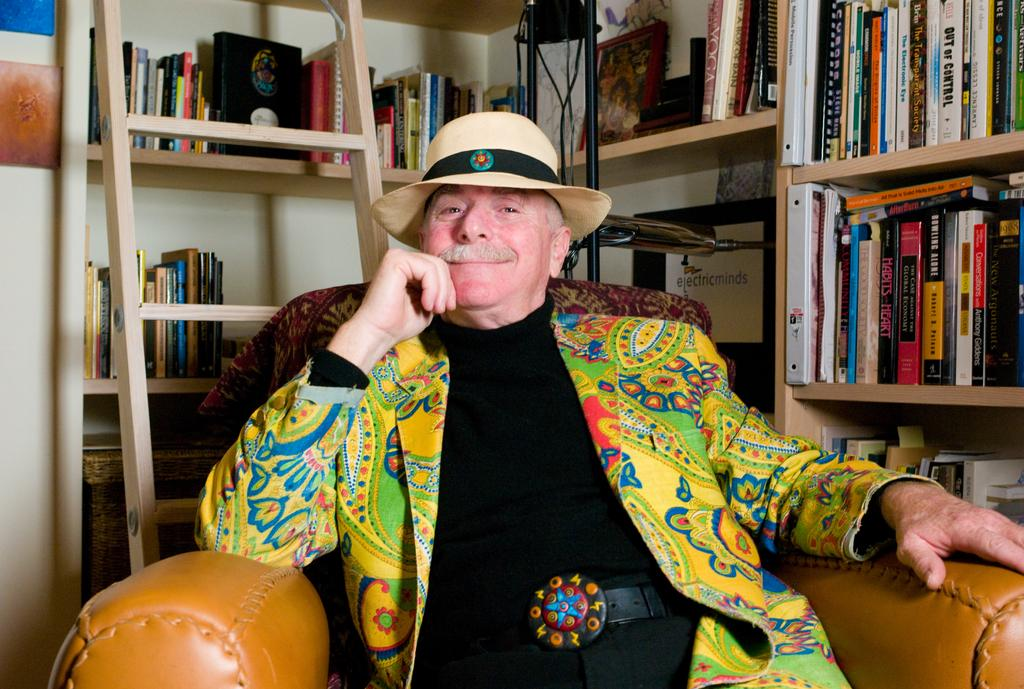Hat: (368, 111, 612, 250)
